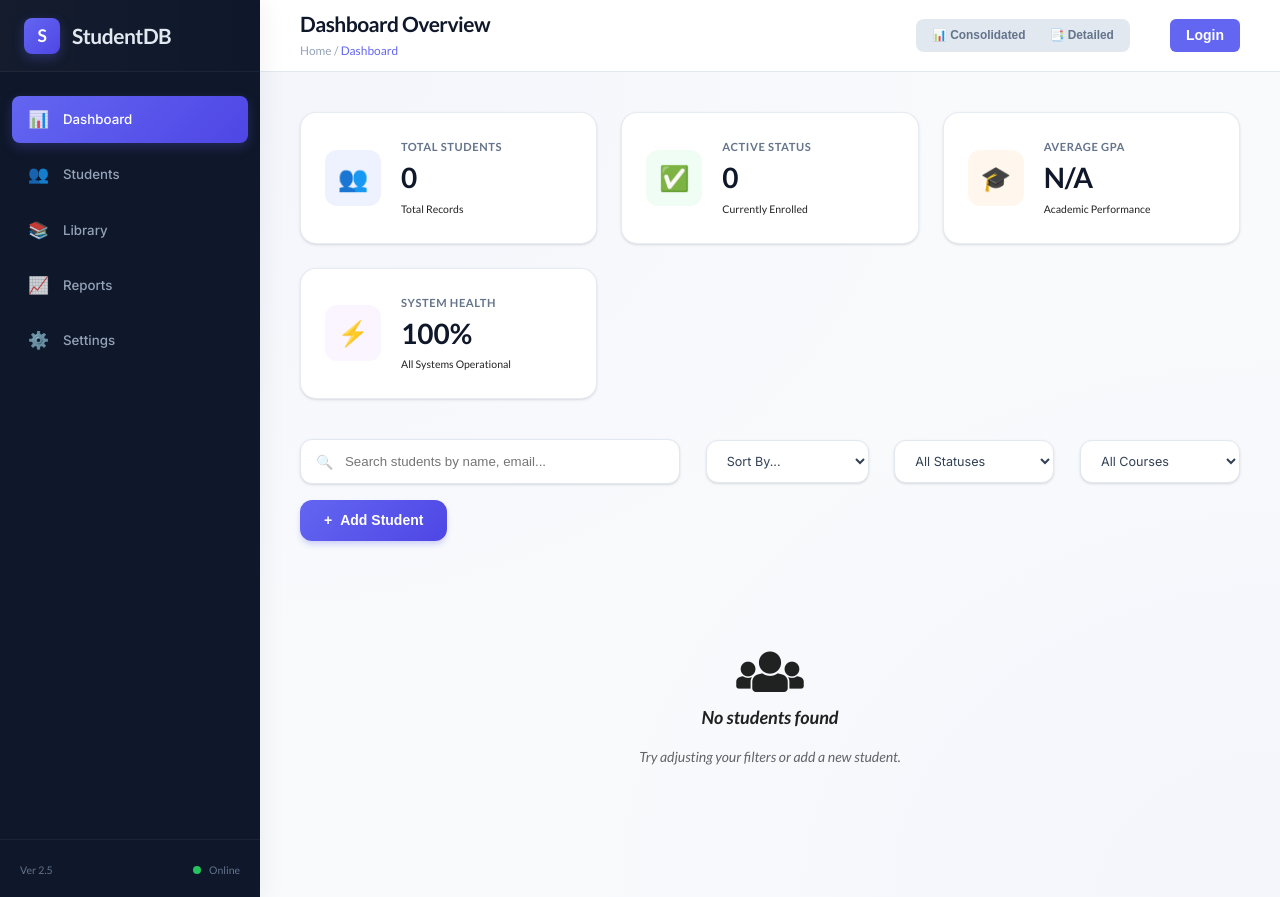
Test: Enterprise App Integration › navigates to Settings module
The width and height of the screenshot is (1280, 897).
Expected: the text "Total Students" is shown, [401,140,502,153]
Click the text "Settings".
click(89, 341)  # box [63,333,115,349]
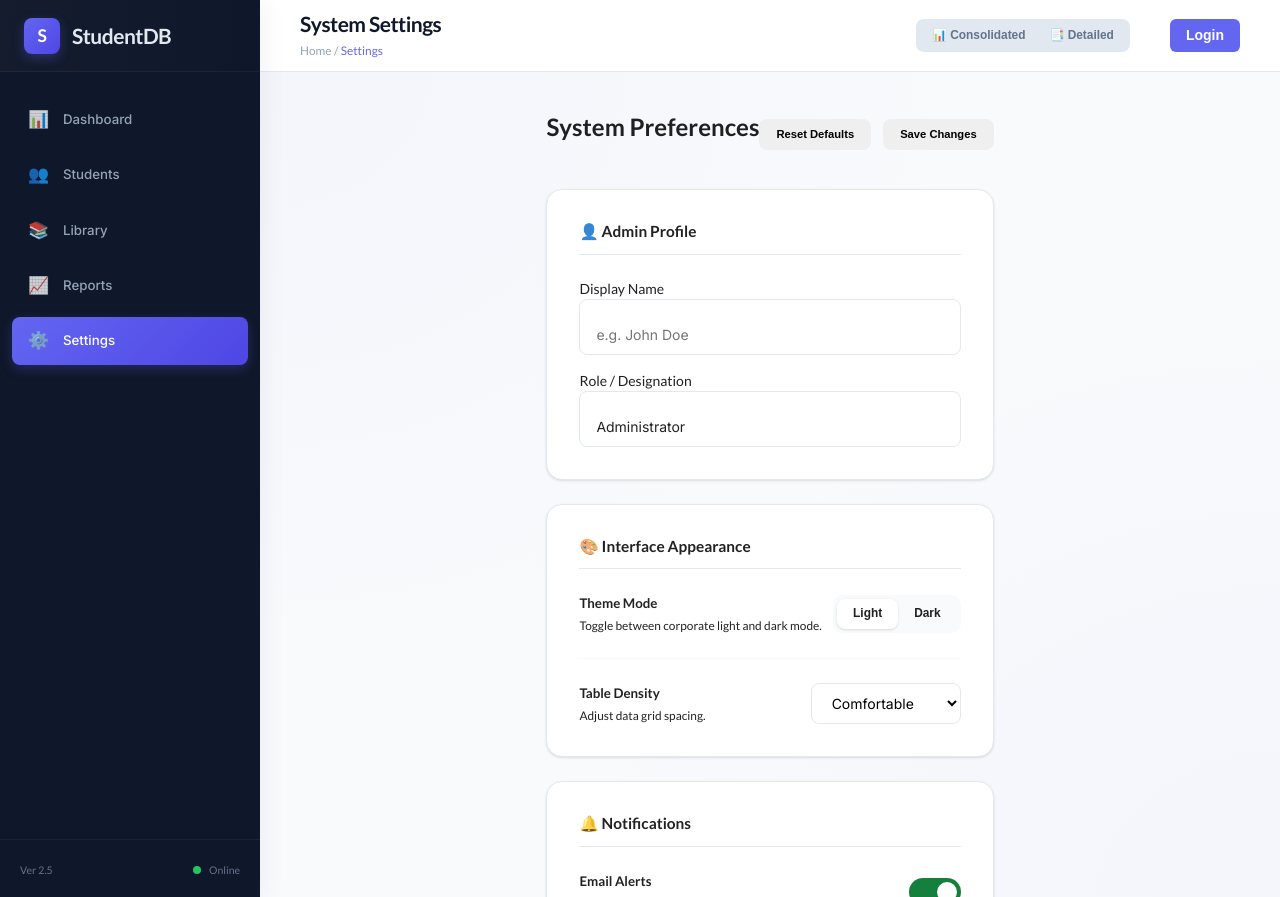
Now the heading "System Settings" is shown, box [300,10,441,37]
